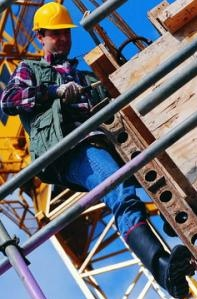boots: (122, 214, 196, 298)
gloves: (56, 81, 85, 104)
hard-hat: (32, 2, 79, 31)
